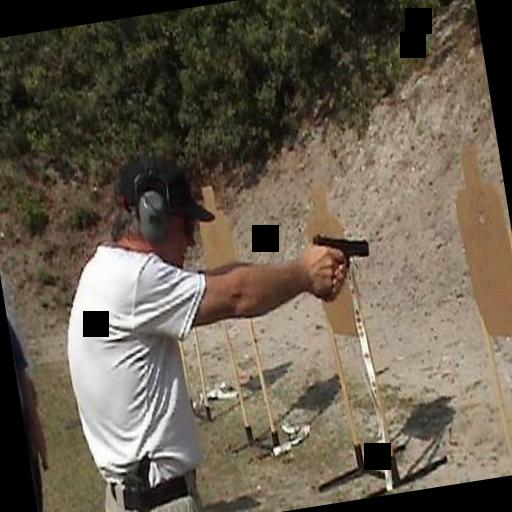Handgun: (305, 224, 374, 296)
